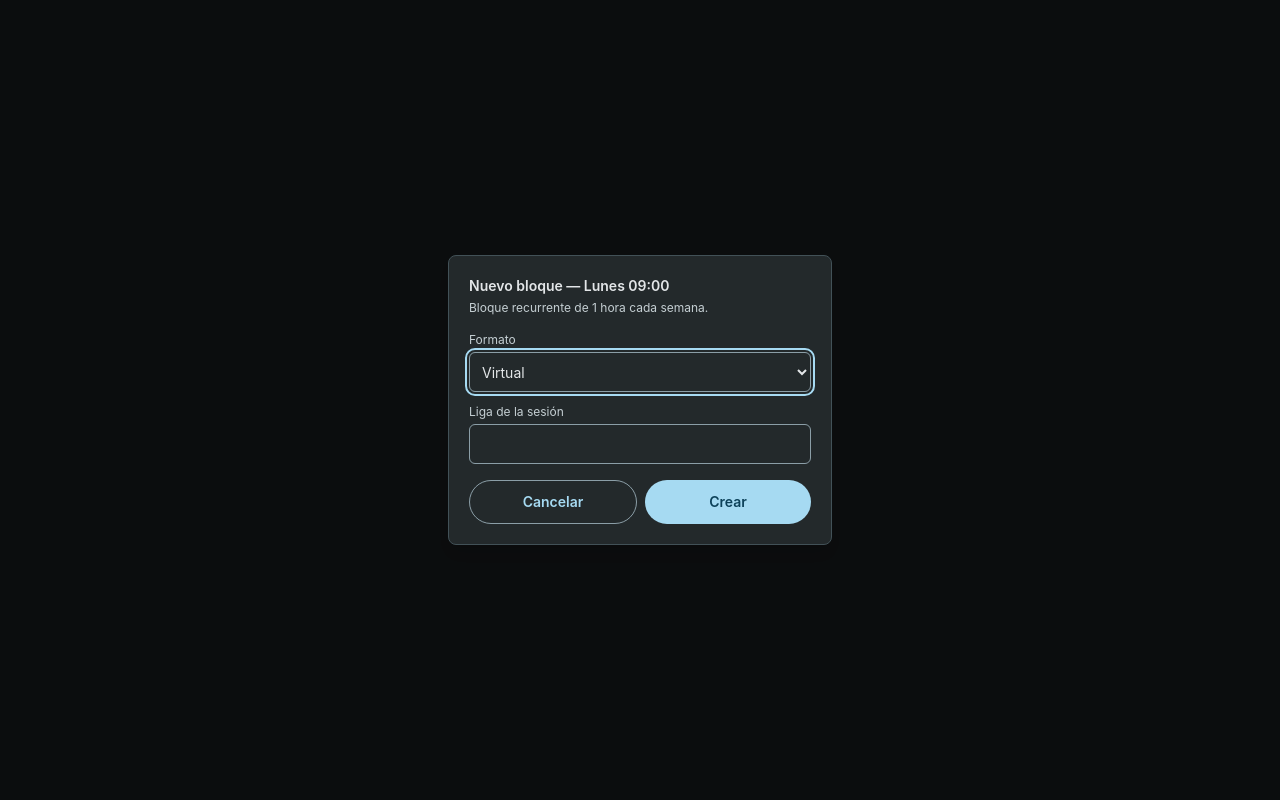
DialogoNuevoBloque › pide la liga cuando el formato es virtual y la ubicación cuando es presencial
Expected: the field labelled "Liga de la sesión" is shown, [469, 424, 811, 464]
Expected: the field labelled "Ubicación" is not shown
Select "Presencial" in the dropdown labelled "Formato" at coordinates (640, 372), box [469, 352, 811, 392]
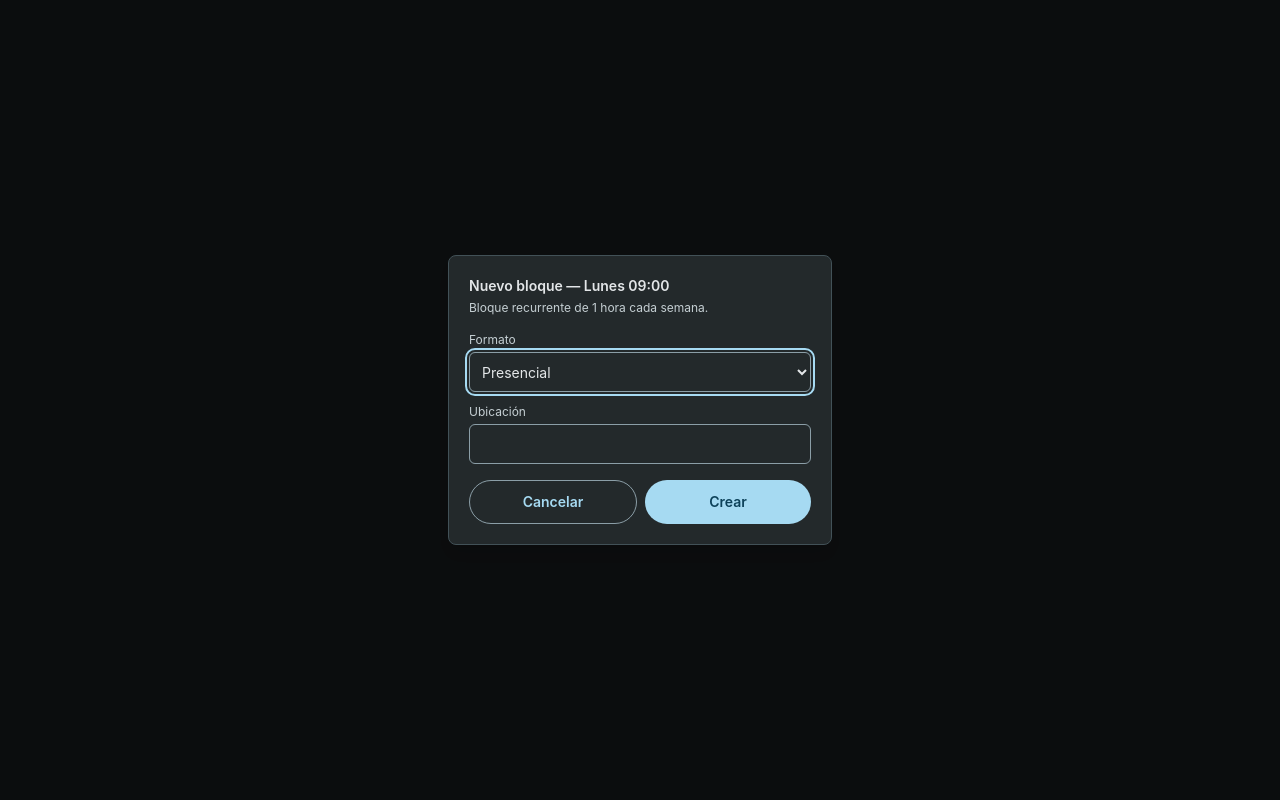
Expected: the field labelled "Ubicación" is shown, [469, 424, 811, 464]
Result: the label labelled "Liga de la sesión" is gone
